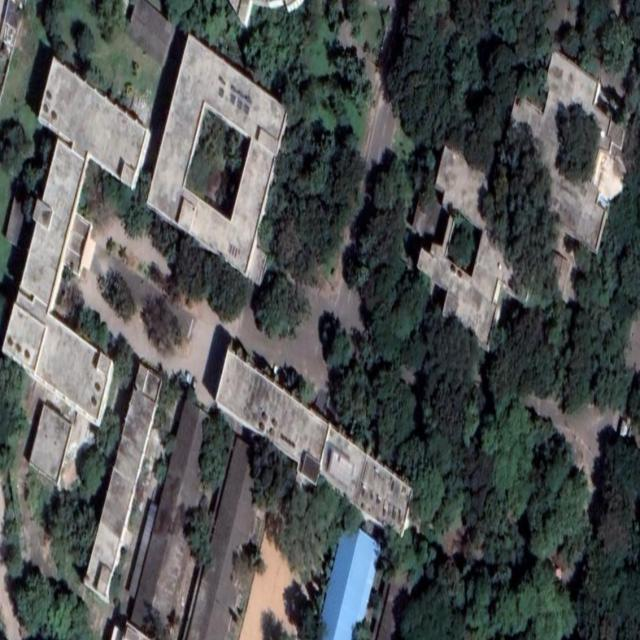Batiment: (2, 59, 149, 425), (216, 350, 411, 533), (148, 35, 286, 283), (511, 52, 625, 299), (418, 146, 512, 348), (85, 363, 161, 600), (131, 398, 204, 638), (188, 437, 265, 639), (321, 530, 380, 639), (30, 404, 71, 479)
